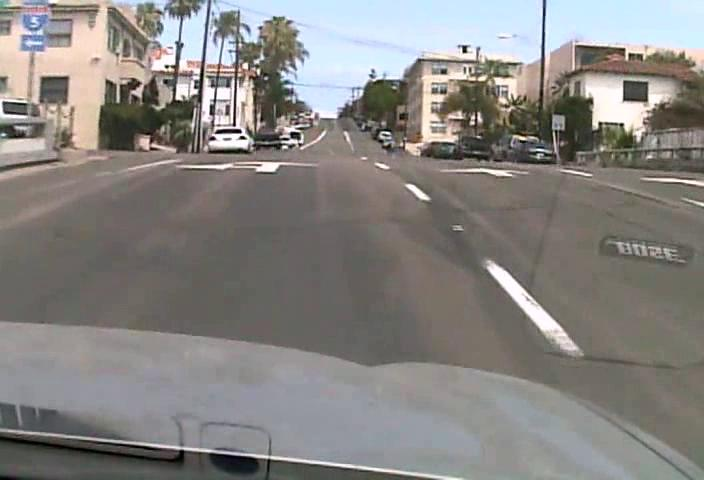speedLimitUrdbl: (551, 113, 566, 131)
